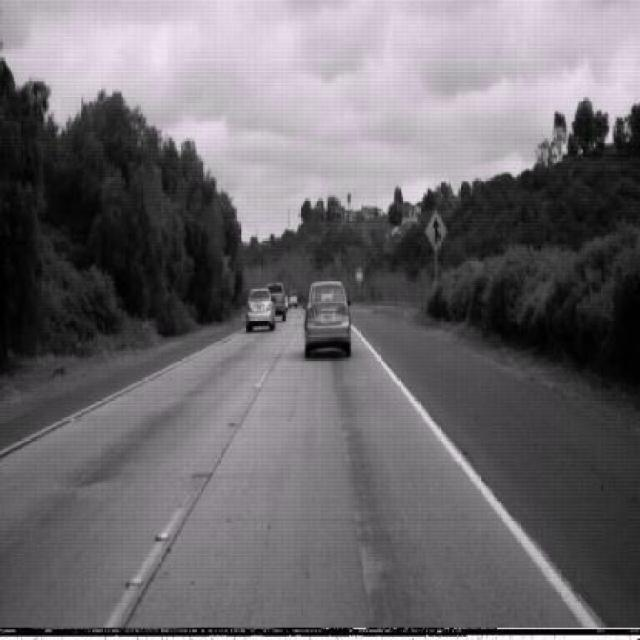merge: (423, 205, 448, 255)
